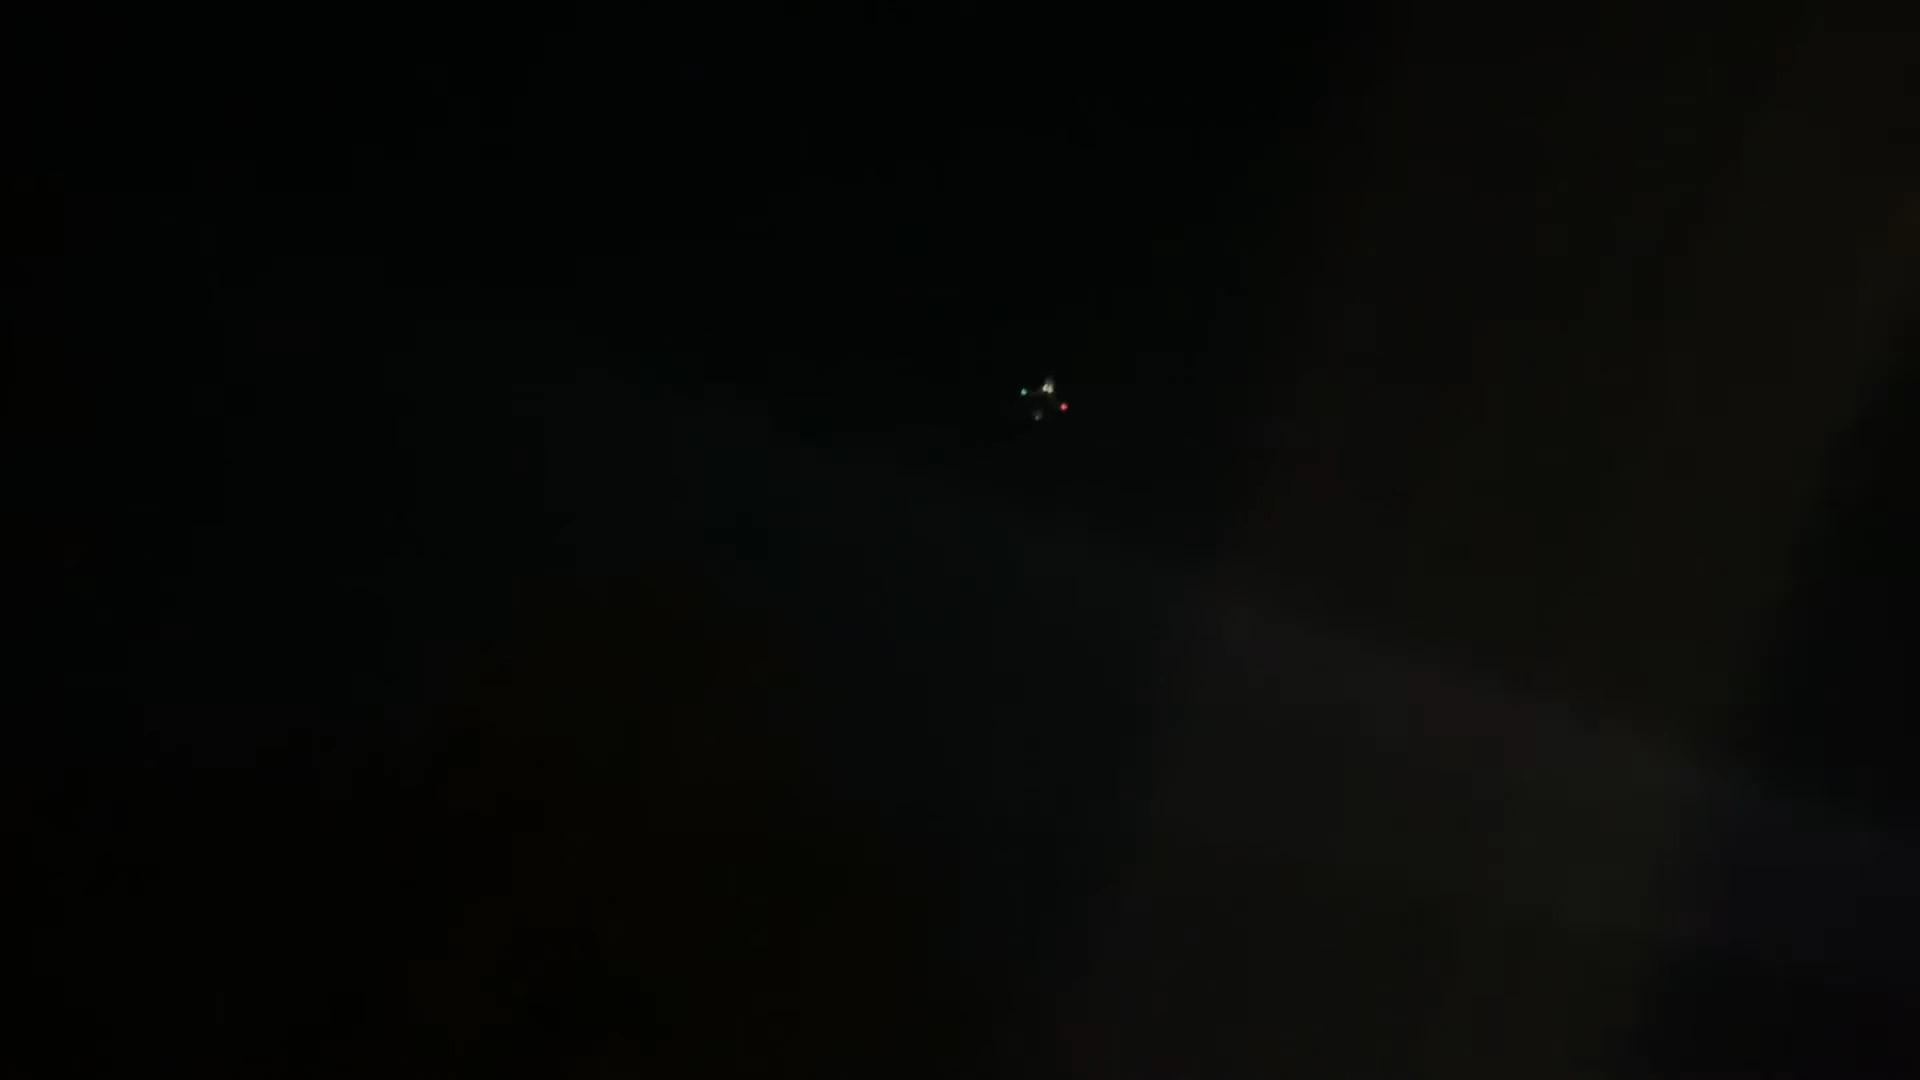Plane: (981, 357, 1114, 440)
